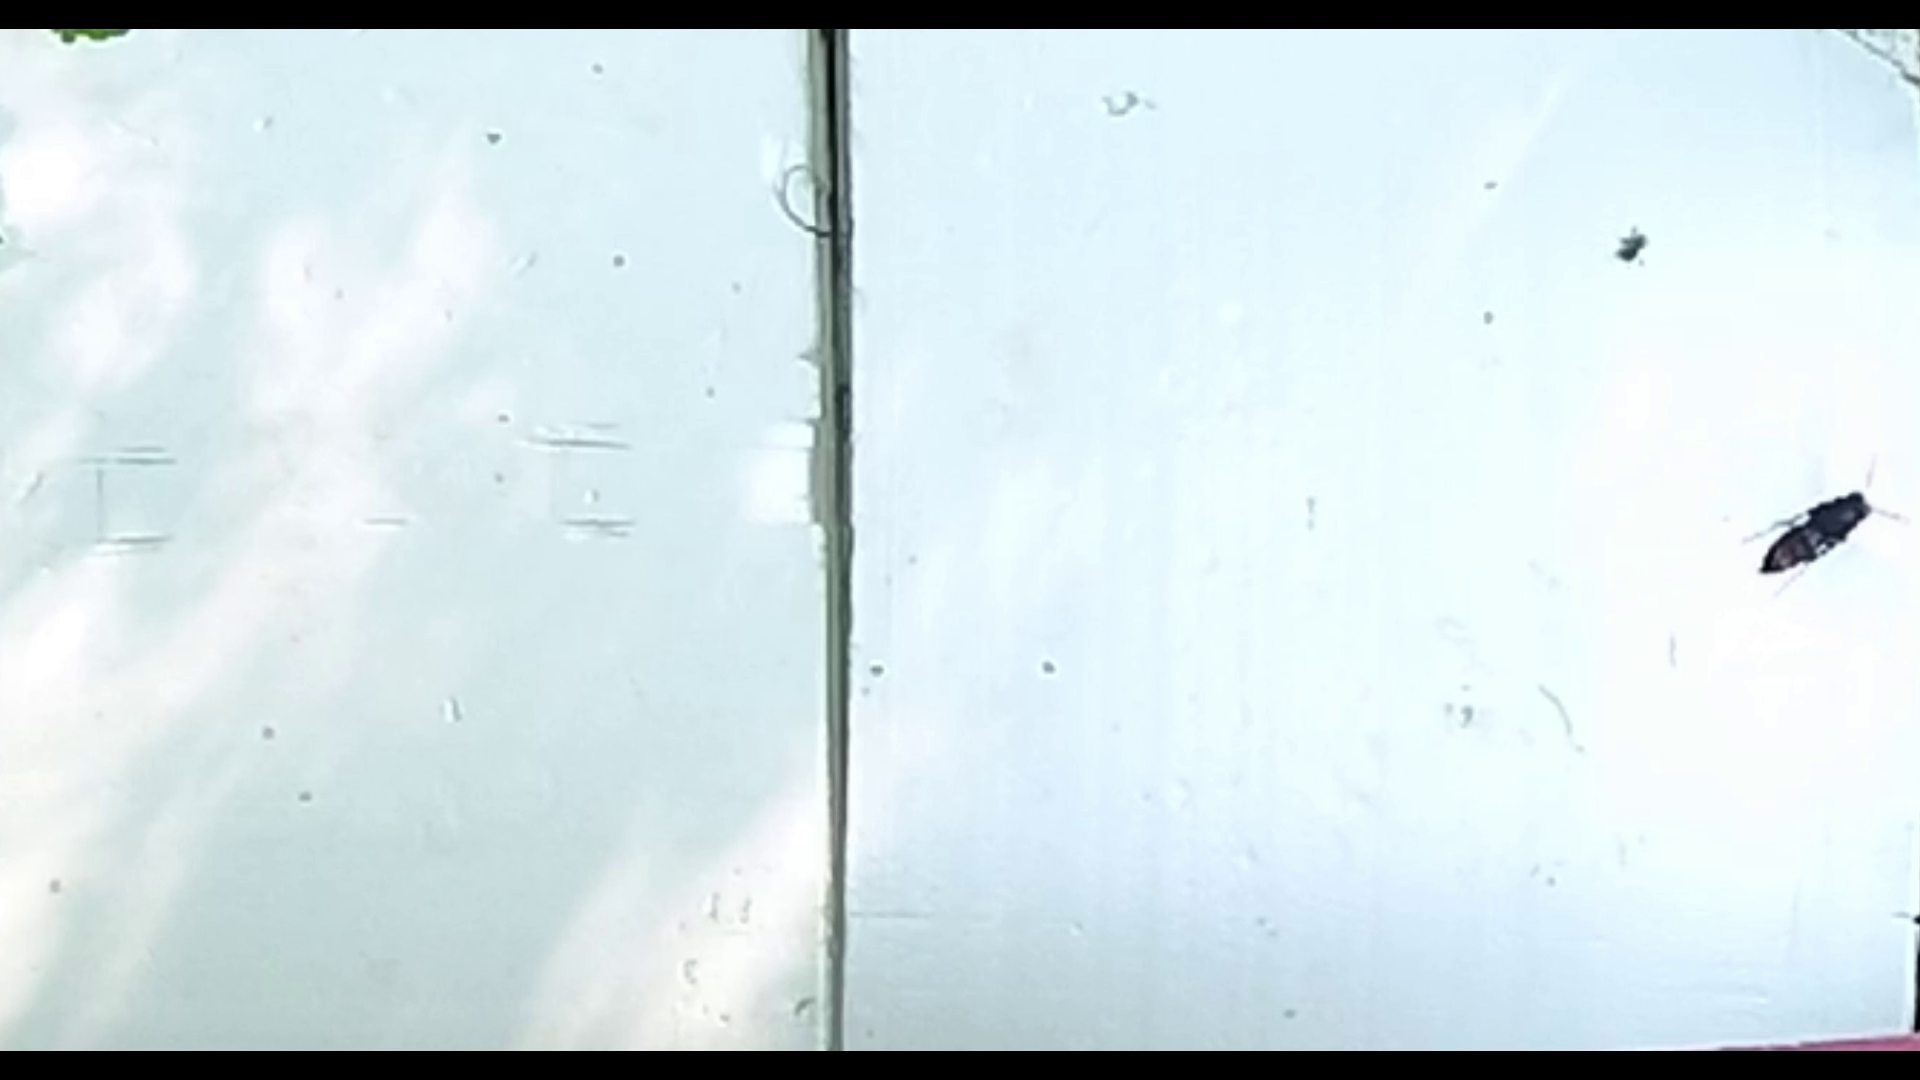Asian_hornets: (1725, 427, 1909, 615)
